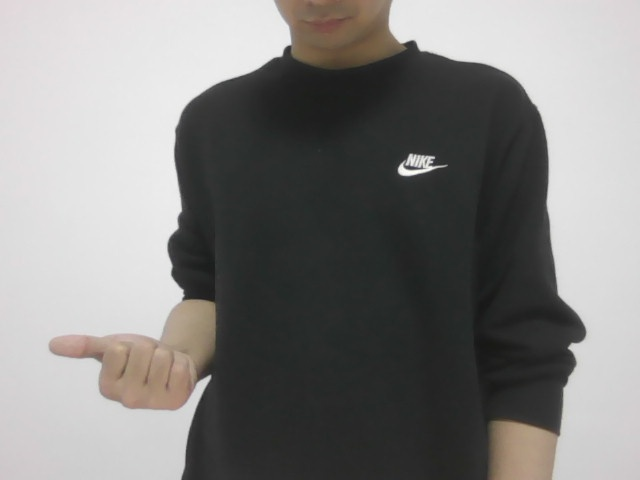have: (35, 322, 210, 413)
